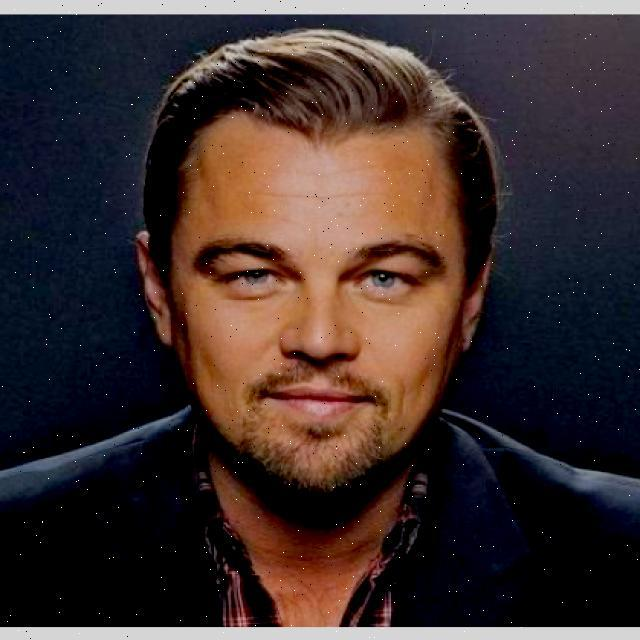face_no_mask: (138, 122, 497, 473)
